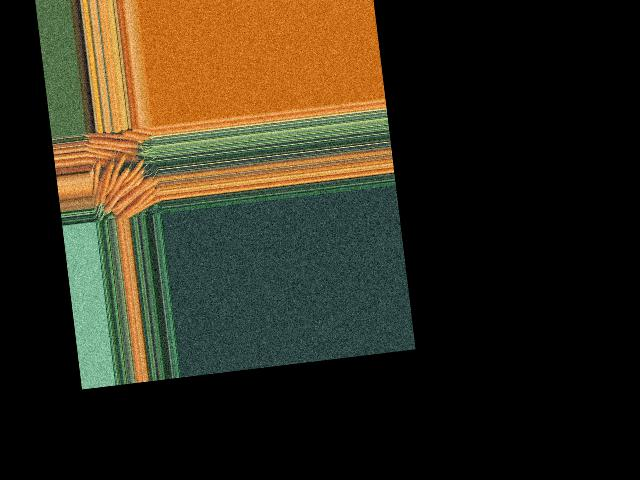carrot: (91, 163, 114, 205)
